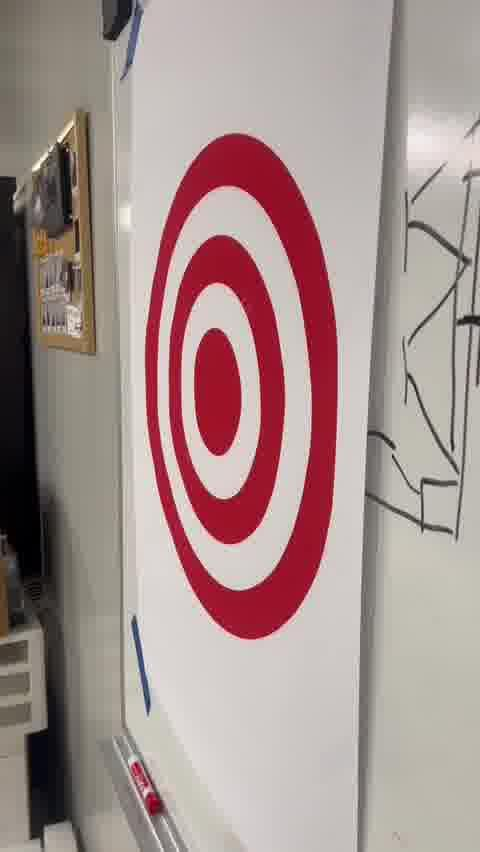target_red: (141, 134, 339, 641)
